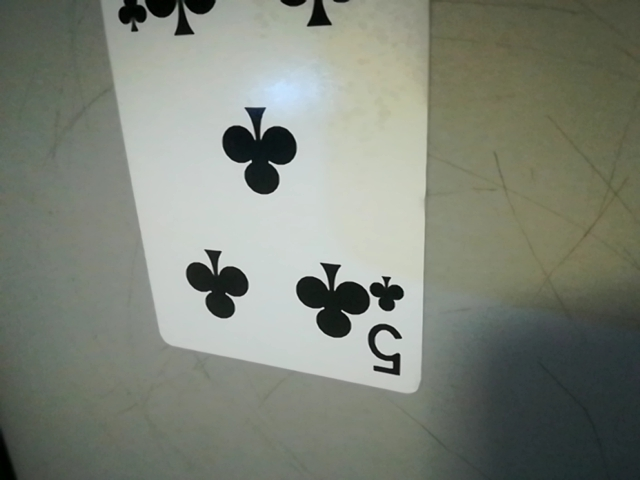mh 5: (369, 269, 420, 383)
